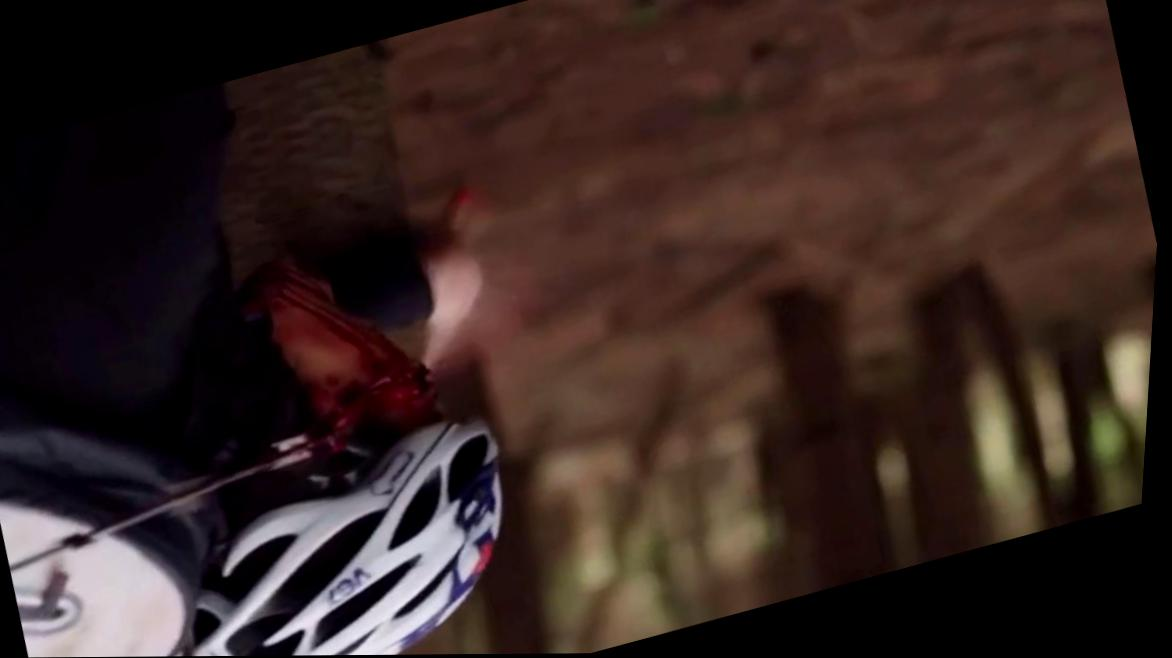Fire: (249, 265, 444, 439)
